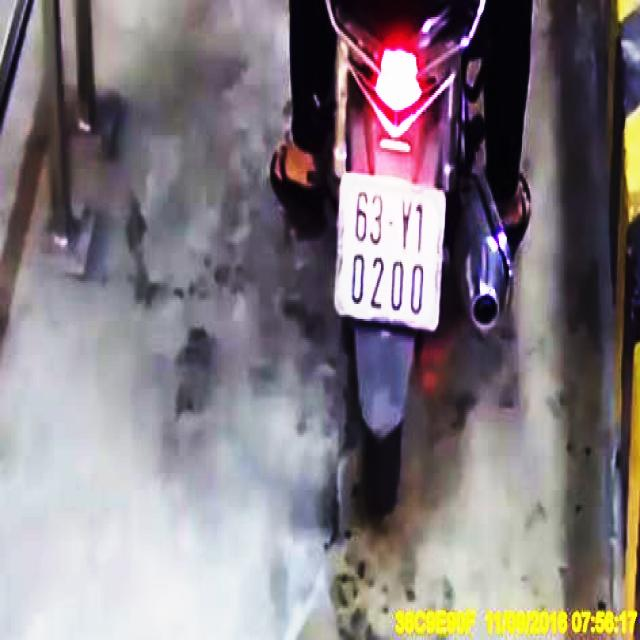license_plate: (335, 175, 447, 334)
